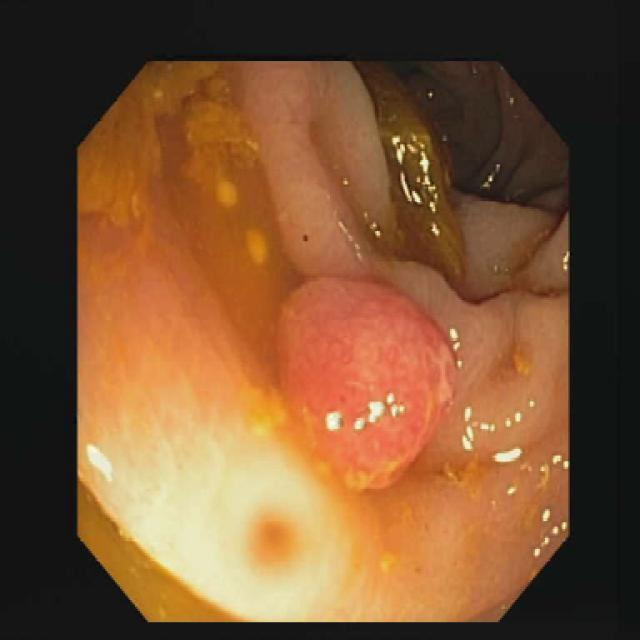tumor: (278, 280, 460, 487)
